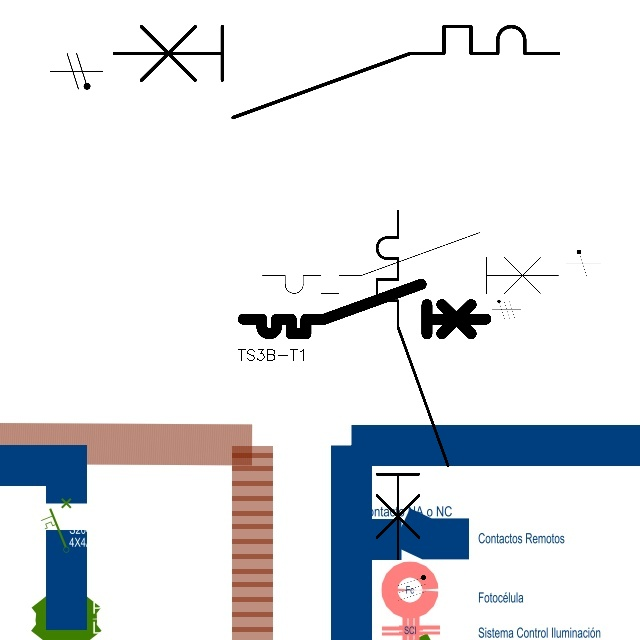interruptor_termomagnetico: (102, 15, 569, 129), (368, 202, 457, 568), (255, 225, 566, 301), (237, 278, 492, 340)
